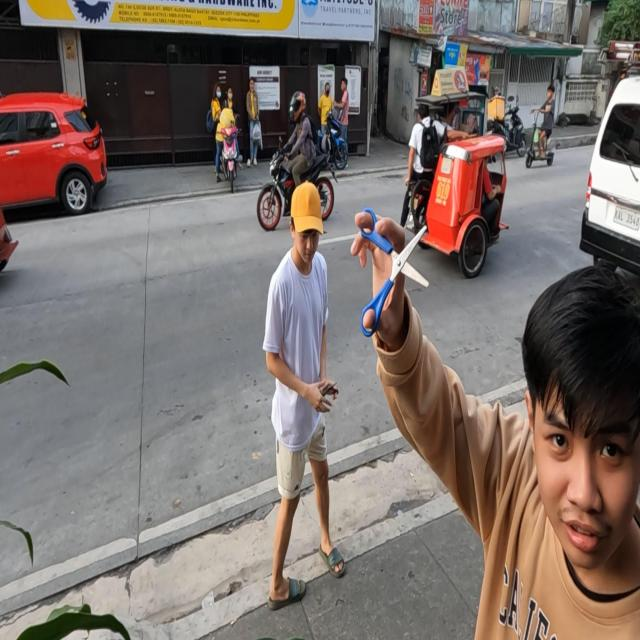scissor: (359, 205, 429, 336)
